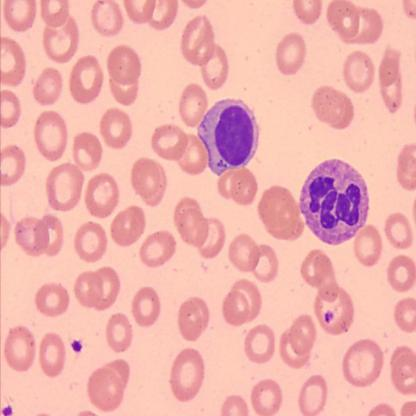Atypical lymphocyte: (302, 160, 370, 244), (195, 98, 261, 174)
